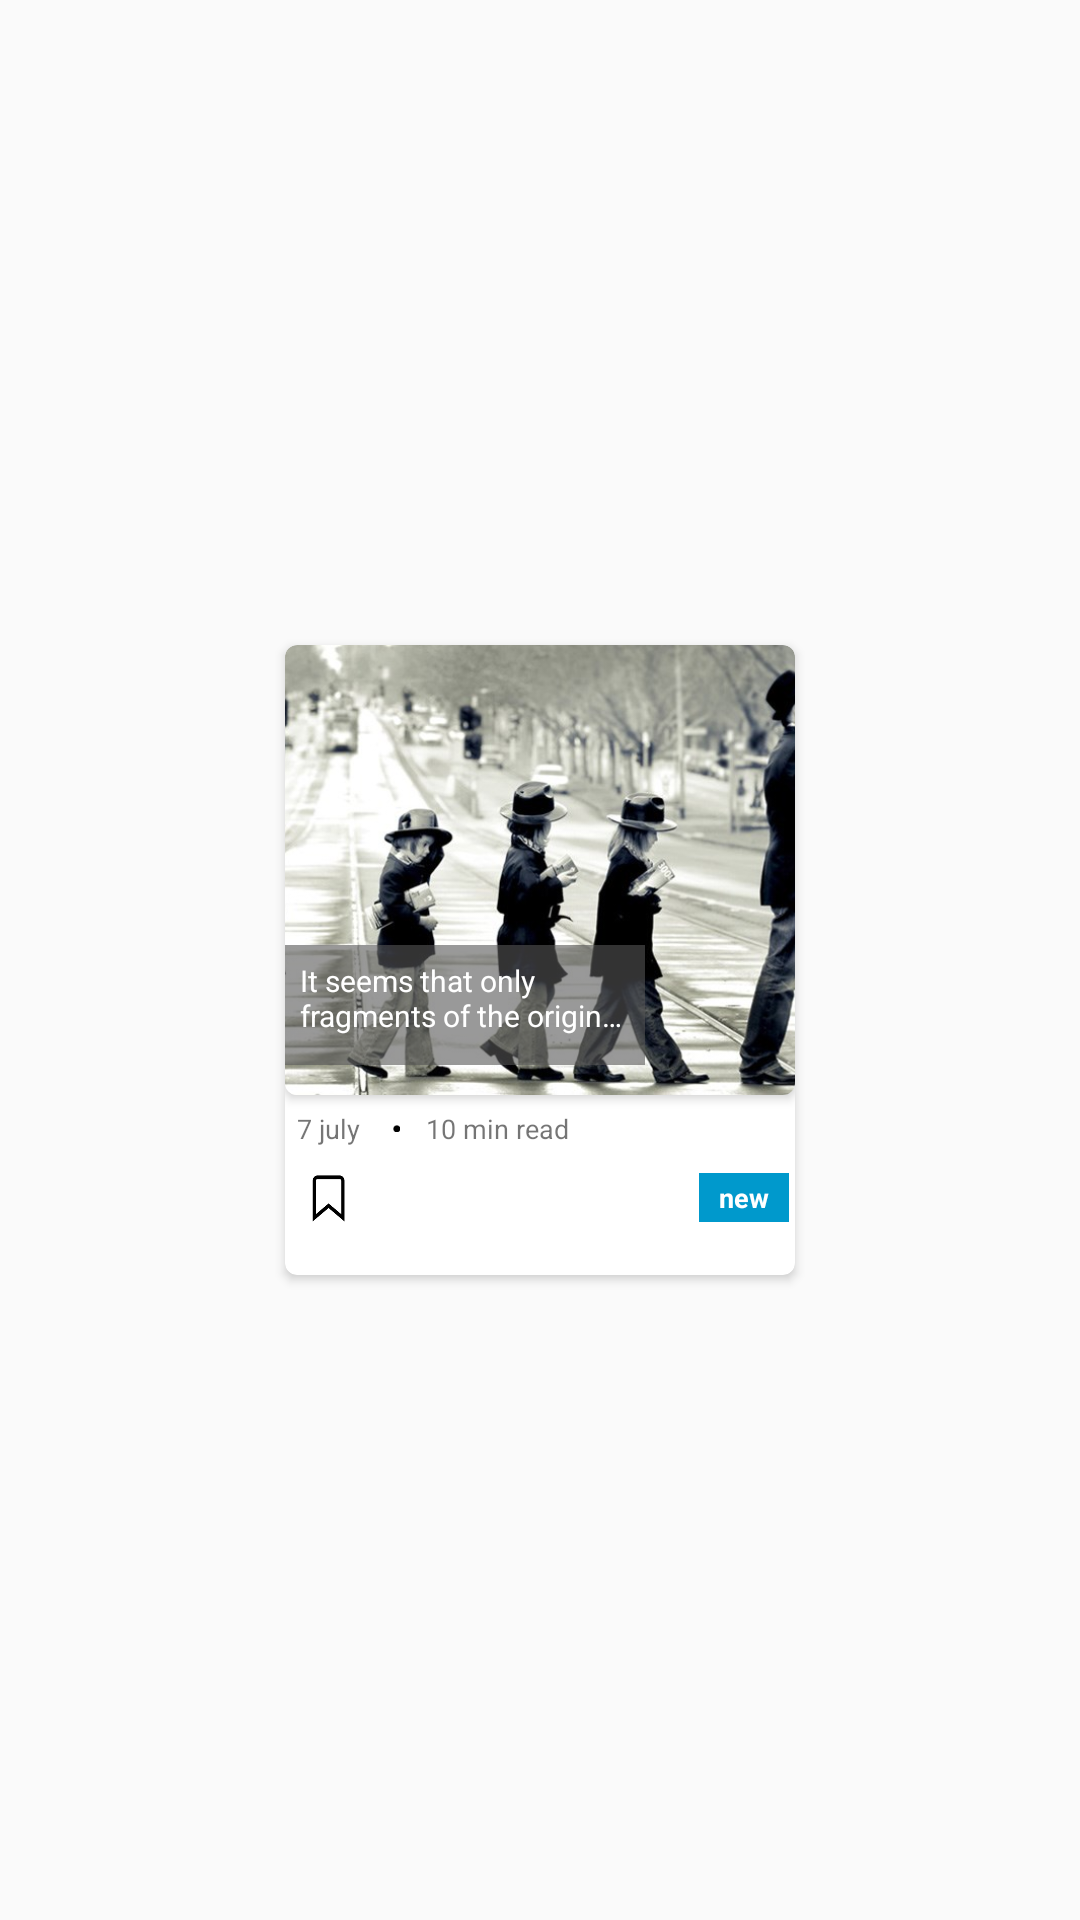

Named icons in this screenshot (1080 × 1920) and their bounding boxes, (x1, y1, x2, y2):
favouriteicon: (312, 1175, 345, 1222)
